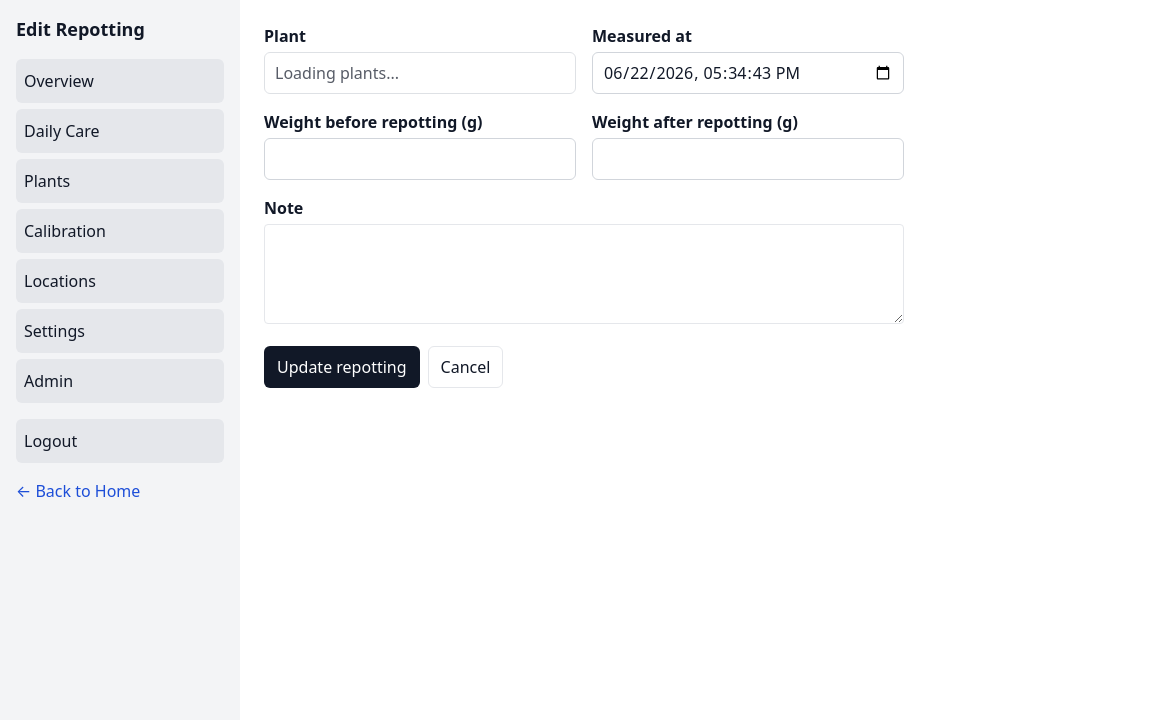
pages/RepottingCreate › edit flow: update error without message falls back to generic
Check: the dropdown labelled "Plant" is shown, box [264, 52, 576, 94]
Click the button "Update repotting" at (342, 367), box [264, 346, 420, 388]
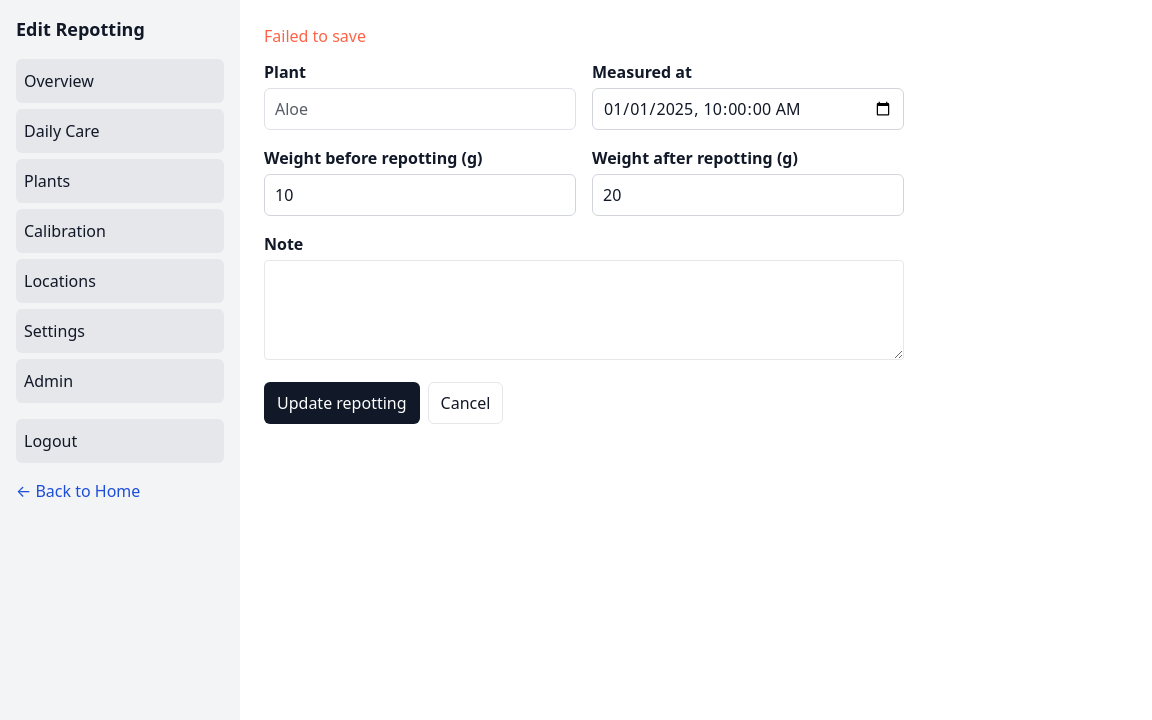
Check: the text "Failed to save" is shown, box [264, 25, 366, 47]
